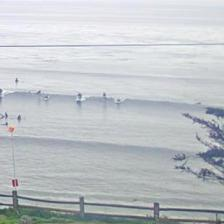surfer: (0, 87, 5, 97), (36, 90, 42, 95), (4, 112, 8, 119), (78, 92, 82, 99), (17, 114, 21, 120), (44, 95, 50, 99), (15, 78, 19, 82), (116, 98, 120, 102), (4, 122, 9, 125), (103, 92, 106, 96), (196, 102, 201, 104)
